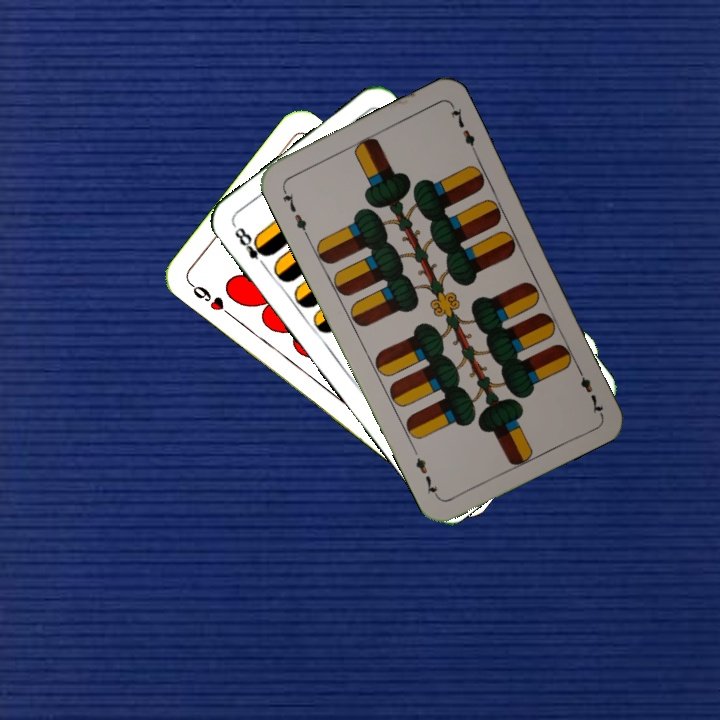E7: (572, 361, 606, 417), (278, 184, 311, 239)
E8: (230, 223, 272, 272)
H9: (185, 278, 235, 320)
